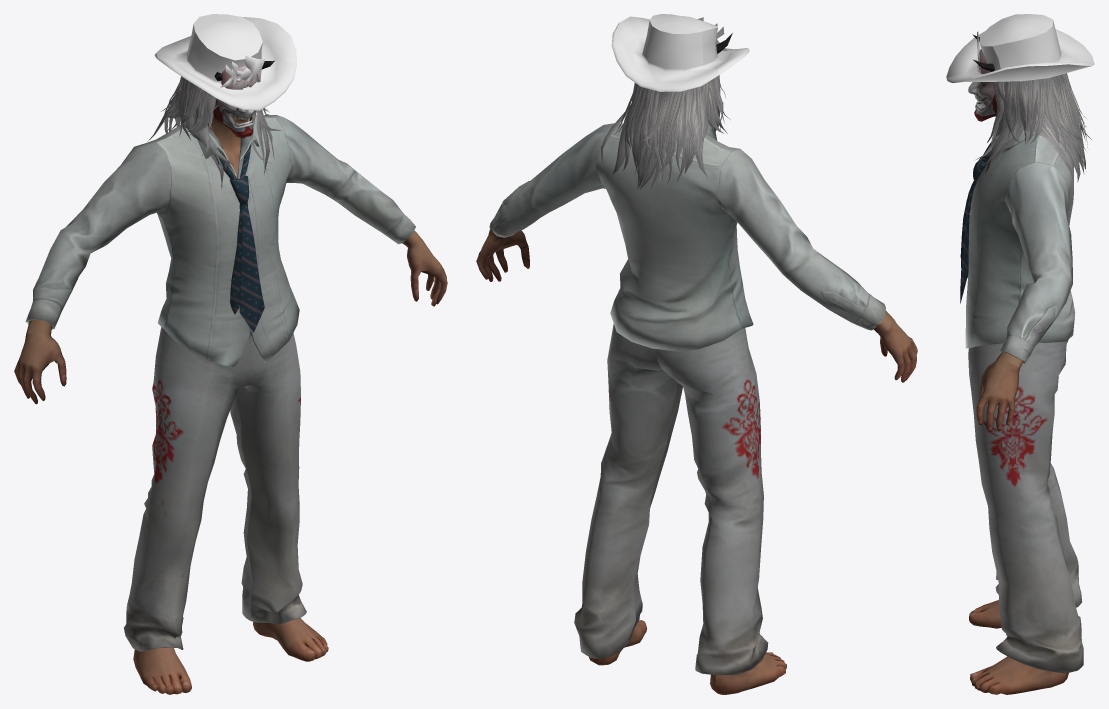
The model's file is kingred.glb.
3 views of the same model, side by side, from view 1: azimuth 30°, elevation 25°; view 2: azimuth 150°, elevation 25°; view 3: azimuth 270°, elevation 25° (orthographic). The views are drawn at different scales.
Visible parts, largest first — view 1: kingred; view 2: kingred; view 3: kingred.
Boxes of the visible parts, x1=… form: kingred: x1=14, y1=14, x2=447, y2=694; kingred: x1=476, y1=14, x2=917, y2=694; kingred: x1=946, y1=14, x2=1094, y2=694.
Bounding box in the file's own units: 0.6301 × 0.9089 × 0.1928.
Materials: 6 (5 with a texture image).
